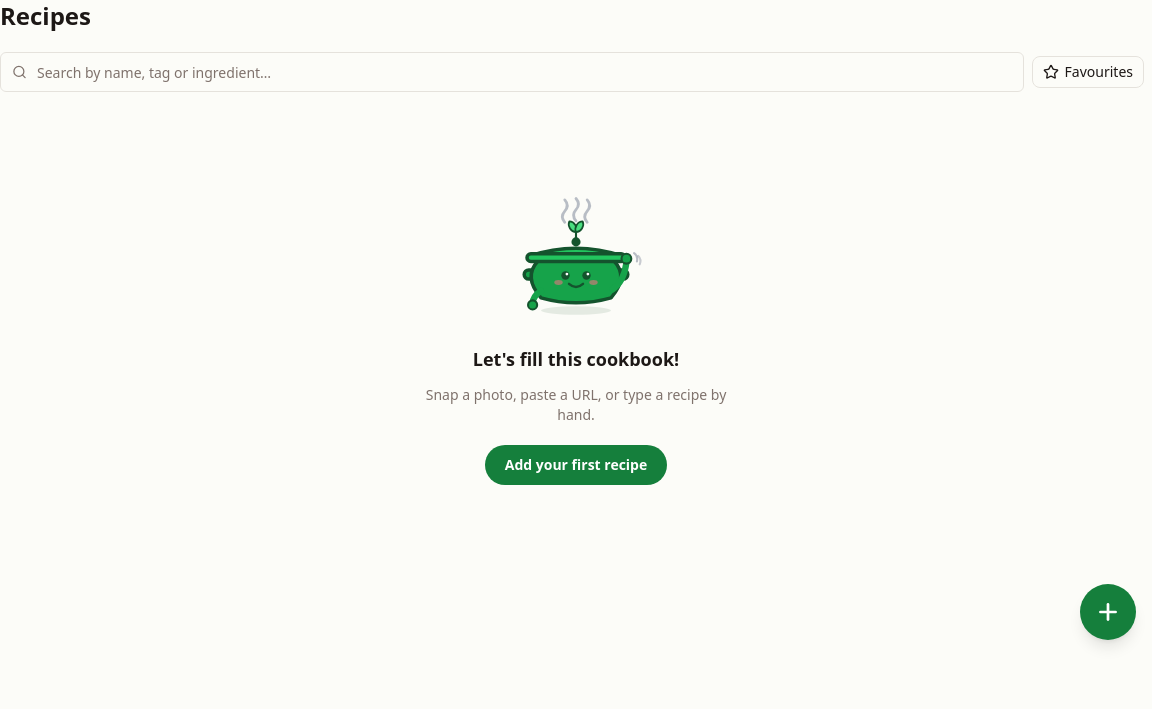
it: RecipesPage › shows discard ActionSheet when closing a dirty recipe form
The image size is (1152, 709).
Click the button named "New Recipe" at (1108, 612), box left=1080, top=584, right=1136, bottom=640
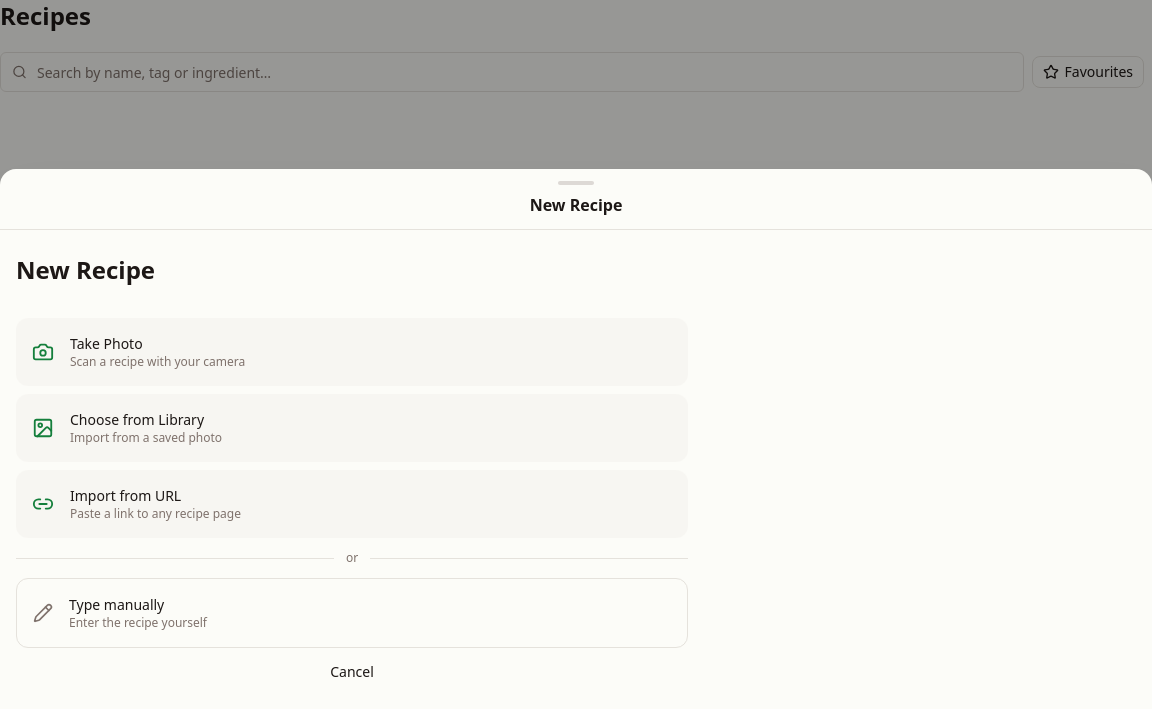
Expected: the 1st heading "New Recipe" is shown, left=530, top=194, right=622, bottom=216
Click the text "Type manually" at (117, 604), box left=69, top=595, right=164, bottom=614
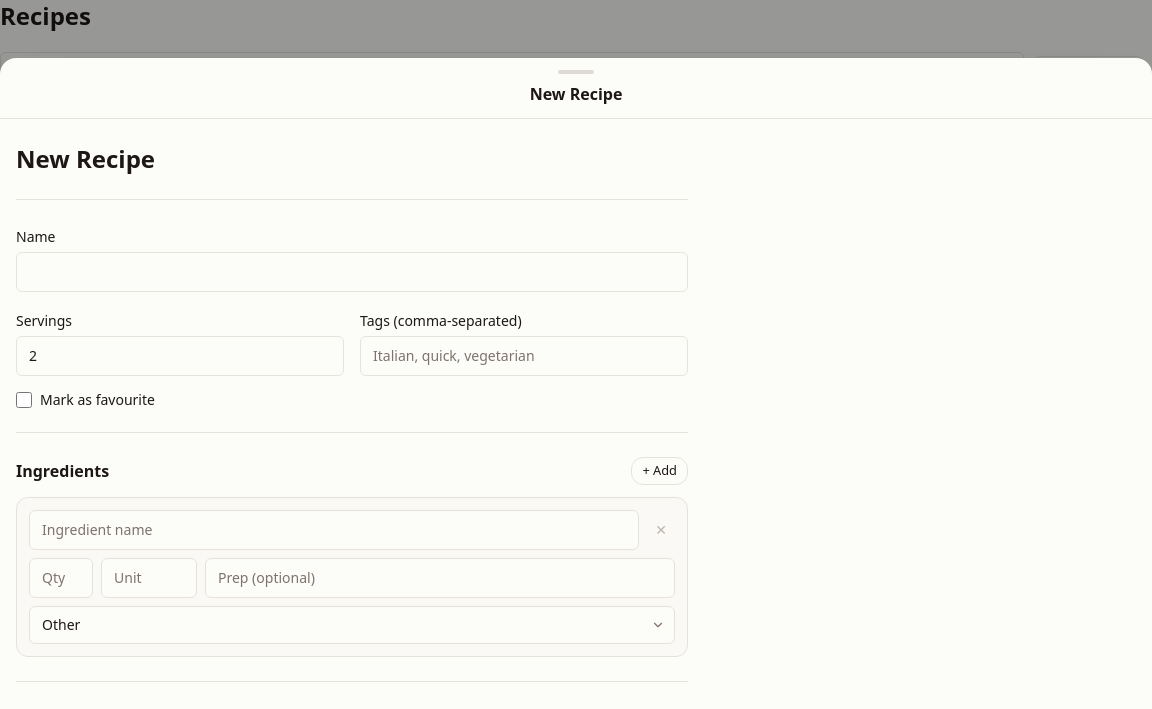
Type "My Recipe" into the field labelled "Name" at (352, 272), box left=16, top=252, right=688, bottom=292
(page scrolled)
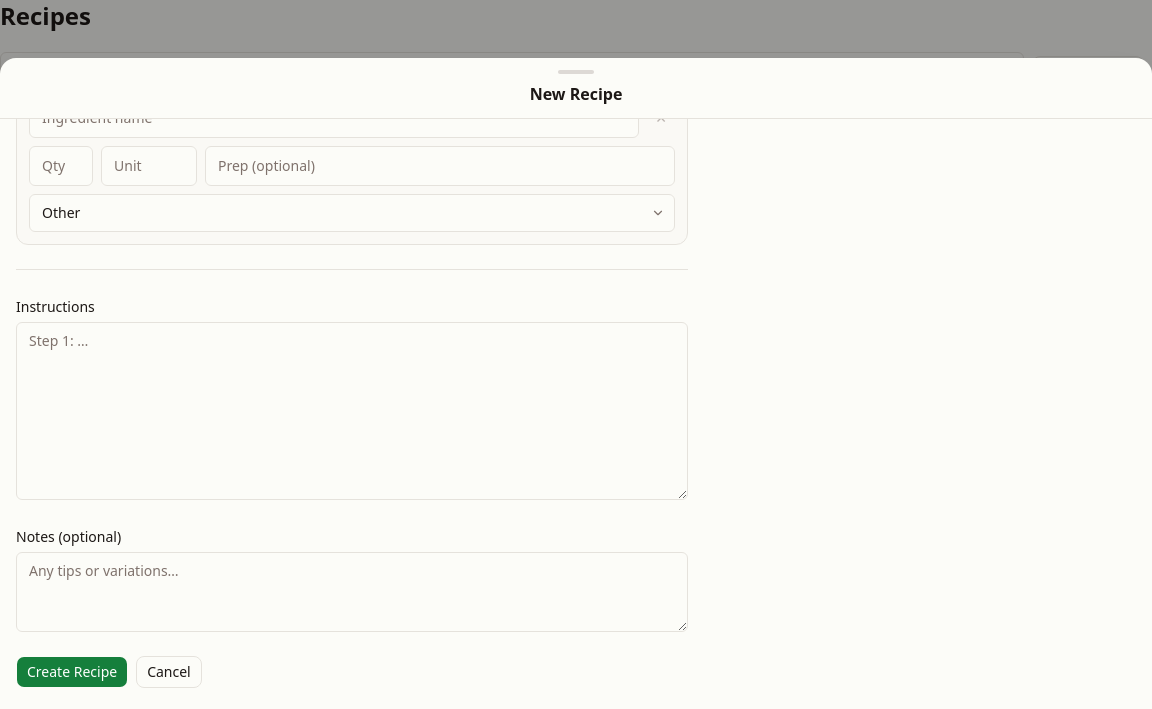
// Click the form's Cancel button (scoped to the dialog)
Click the button "Cancel" at (169, 672), box left=136, top=656, right=202, bottom=688
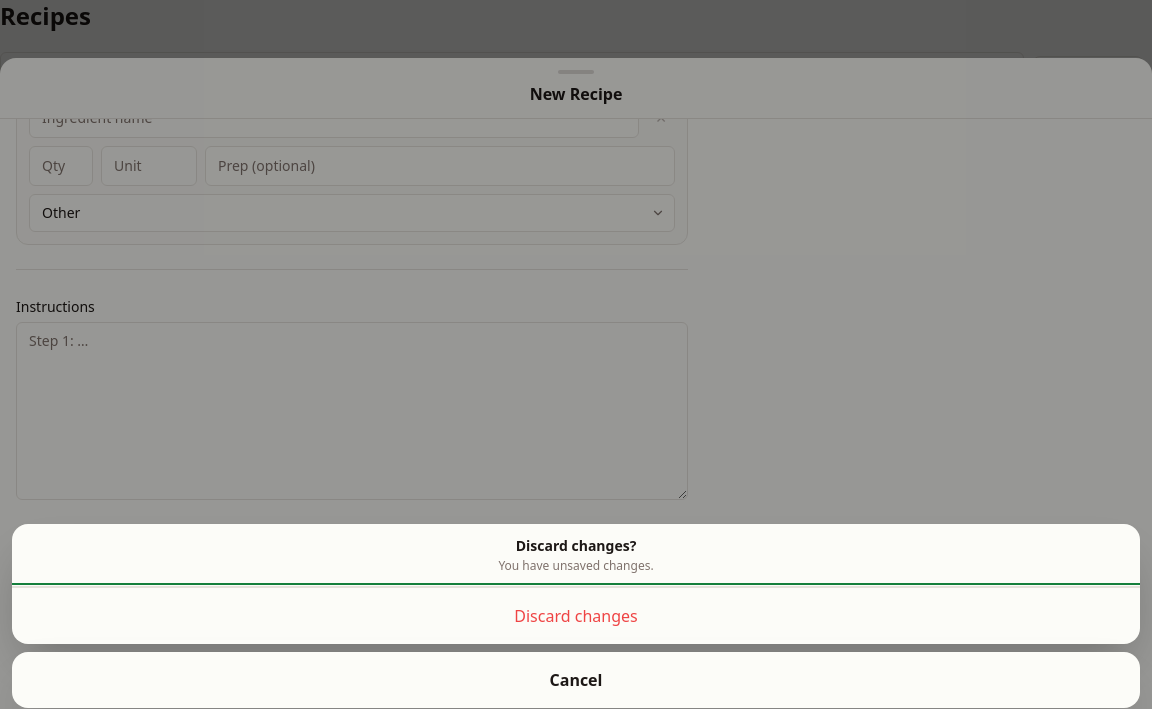
Expected: the text "Discard changes?" is shown, left=516, top=536, right=636, bottom=555
